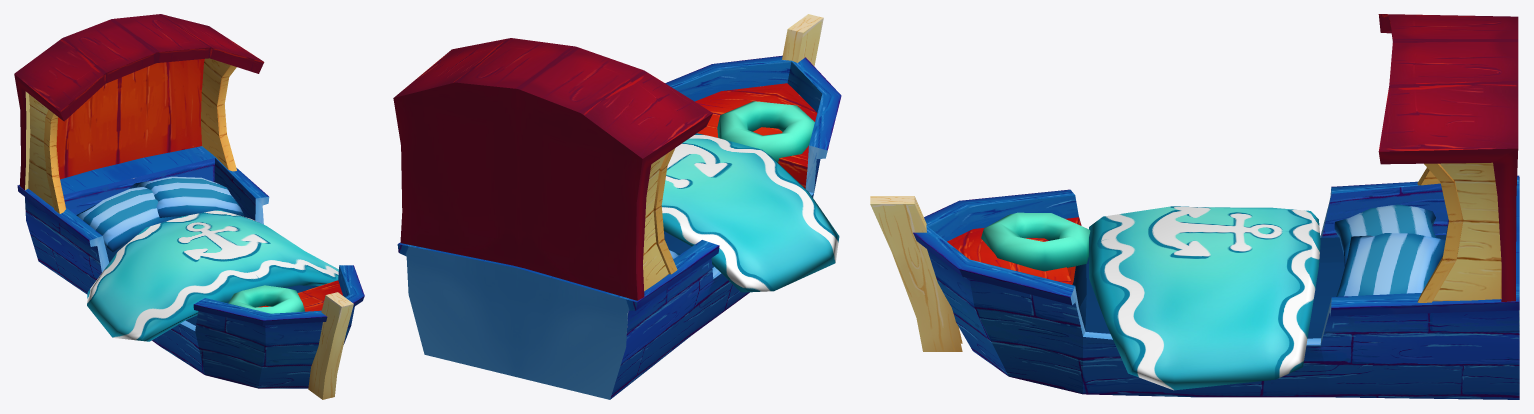
File: bedTier1Lv3.fbx
The picture shows the model from 3 angles, left to right: view 1: azimuth 30°, elevation 25°; view 2: azimuth 150°, elevation 25°; view 3: azimuth 270°, elevation 25°; orthographic projection. The views are drawn at different scales.
Parts seen in each view (by area): view 1: polySurface41, polySurface36, polySurface105, polySurface107, polySurface109, polySurface108, polySurface104, polySurface103, polySurface115, polySurface106; view 2: polySurface41, polySurface36, polySurface105, polySurface115, polySurface109, polySurface104; view 3: polySurface36, polySurface105, polySurface41, polySurface103, polySurface104, polySurface108, polySurface115, polySurface106, polySurface107.
Boxes of the visible parts, x1,y1,x2,y2 form: polySurface41: (14, 14, 264, 190); polySurface36: (17, 146, 364, 388); polySurface105: (87, 209, 338, 341); polySurface107: (76, 187, 185, 252); polySurface109: (28, 94, 65, 213); polySurface108: (129, 176, 244, 217); polySurface104: (308, 292, 353, 399); polySurface103: (201, 58, 236, 171); polySurface115: (228, 285, 304, 313); polySurface106: (105, 246, 318, 325); polySurface41: (393, 38, 712, 300); polySurface36: (397, 55, 841, 399); polySurface105: (661, 133, 839, 292); polySurface115: (717, 101, 814, 162); polySurface109: (643, 148, 677, 291); polySurface104: (782, 14, 823, 66); polySurface36: (913, 175, 1519, 399); polySurface105: (1089, 206, 1320, 390); polySurface41: (1378, 14, 1518, 301); polySurface103: (1417, 162, 1501, 302); polySurface104: (870, 196, 962, 351); polySurface108: (1336, 233, 1445, 296); polySurface115: (981, 212, 1090, 271); polySurface106: (1072, 235, 1446, 338); polySurface107: (1334, 204, 1436, 266).
Bounding box in the file's own units: 6.52 × 5.86 × 11.1.
